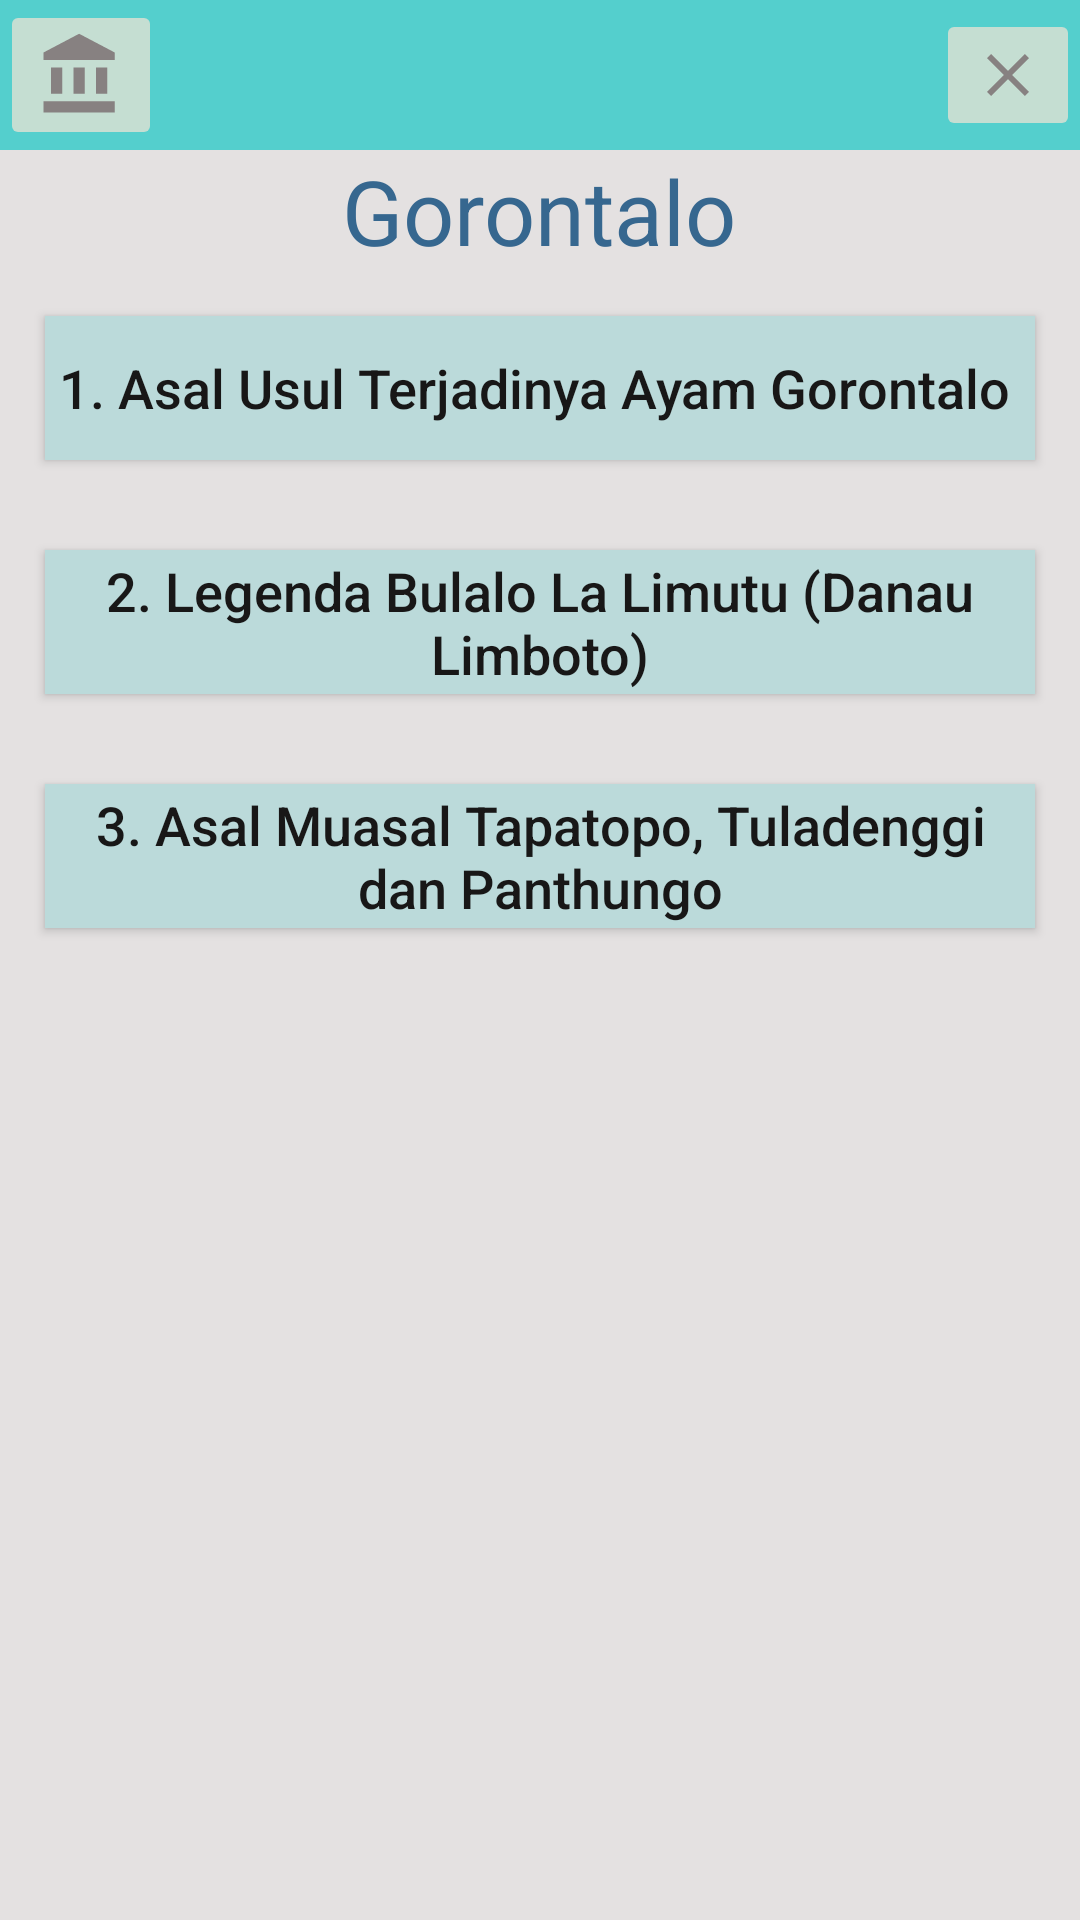

Where to tap for icons on this 1080x1920 app screen, as (x=x, y=y):
account balance: (x=81, y=75)
close: (x=1008, y=75)
